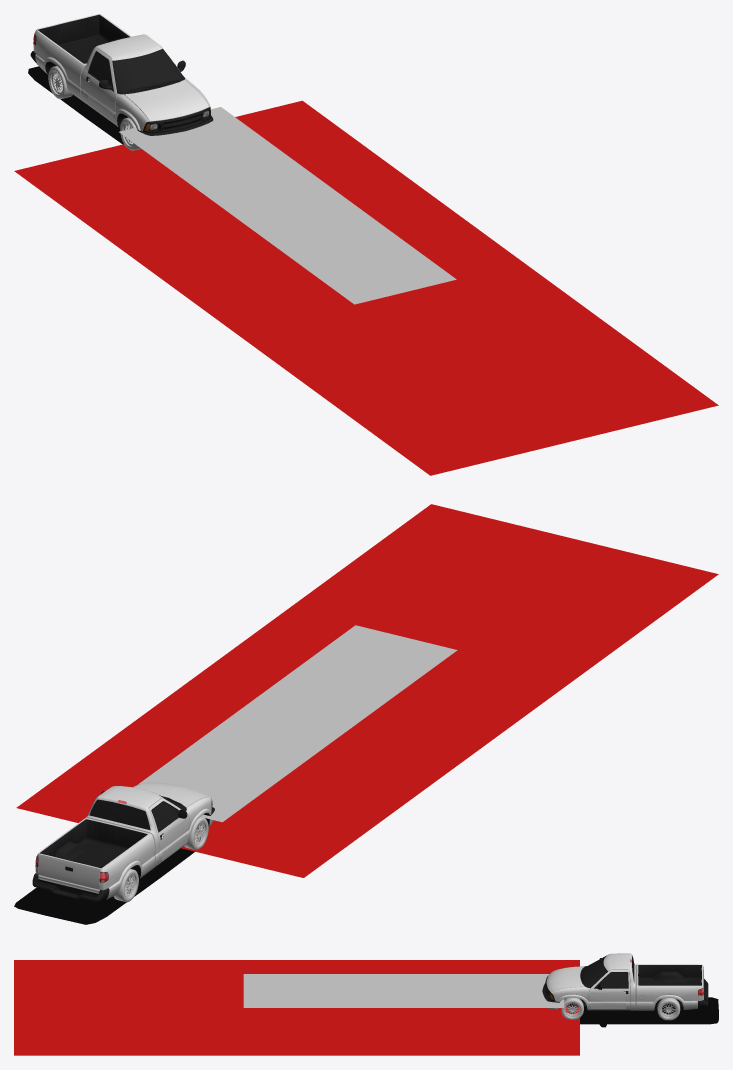
File: car0.fbx
3 views of the same model, one above another, from view 1: azimuth 30°, elevation 25°; view 2: azimuth 150°, elevation 25°; view 3: azimuth 270°, elevation 25° (orthographic). The views are drawn at different scales.
Parts seen in each view (by area): view 1: light_ground, far_lights, s10, shadow_car, decalSide; view 2: light_ground, far_lights, s10, shadow_car, decalSide; view 3: light_ground, far_lights, s10, shadow_car, decalSide, wheel_RL, wheel_FL.
Part boxes in pixels (x1,y1,x2,y2): light_ground: (14, 100, 718, 475); far_lights: (119, 107, 456, 304); s10: (30, 14, 213, 135); shadow_car: (28, 66, 123, 144); decalSide: (87, 78, 114, 122); light_ground: (16, 504, 718, 877); far_lights: (138, 625, 457, 822); s10: (32, 782, 214, 902); shadow_car: (14, 848, 194, 924); decalSide: (161, 816, 188, 860); light_ground: (14, 960, 579, 1055); far_lights: (243, 974, 564, 1007); s10: (542, 953, 708, 1010); shadow_car: (580, 997, 718, 1027); decalSide: (590, 991, 625, 1008); wheel_RL: (657, 998, 680, 1020); wheel_FL: (561, 997, 583, 1019).
Bounding box in the file's own units: 47.24 × 11.16 × 147.
